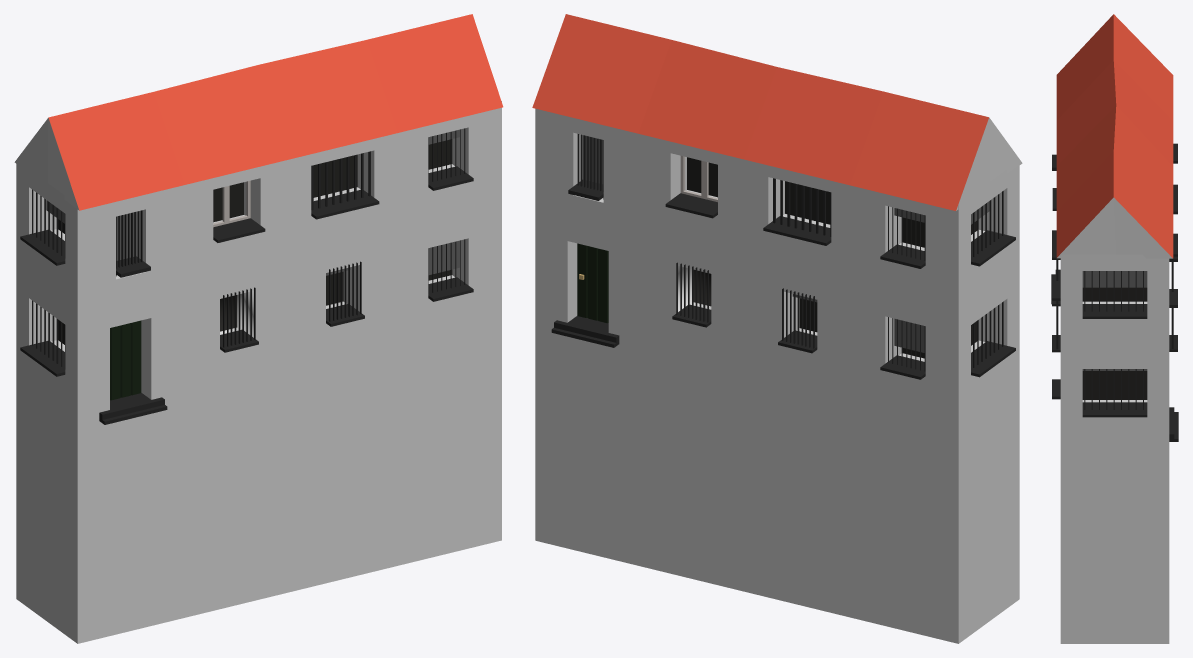
Rendered from casa procedural_relleno_Con sotano_4.fbx.
3 renders of one model, left to right at view 1: azimuth 30°, elevation 25°; view 2: azimuth 150°, elevation 25°; view 3: azimuth 270°, elevation 25°, orthographic. The views are drawn at different scales.
Parts seen in each view (by area): view 1: Procedural_Building_straight.004; view 2: Procedural_Building_straight.004; view 3: Procedural_Building_straight.004.
Boxes of the visible parts, box(x1,y1,x2,y2) form: Procedural_Building_straight.004: box(14, 14, 503, 643); Procedural_Building_straight.004: box(532, 14, 1022, 643); Procedural_Building_straight.004: box(1051, 14, 1178, 643).
Bounding box in the file's own units: 416 × 455 × 118.
